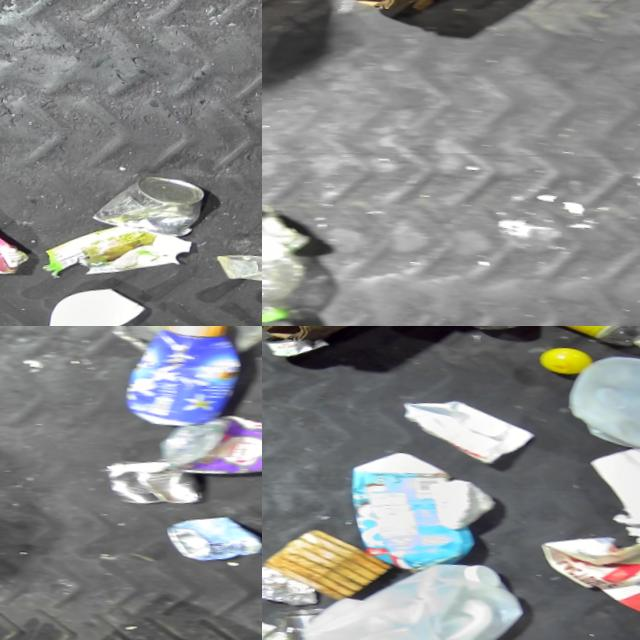can: (92, 157, 214, 237), (104, 445, 218, 512), (160, 500, 262, 562), (262, 598, 316, 640)
milk_jug: (298, 534, 537, 640), (562, 333, 640, 446)
non_white_jug: (121, 326, 261, 427)
plastic_bottle: (262, 189, 321, 326)
